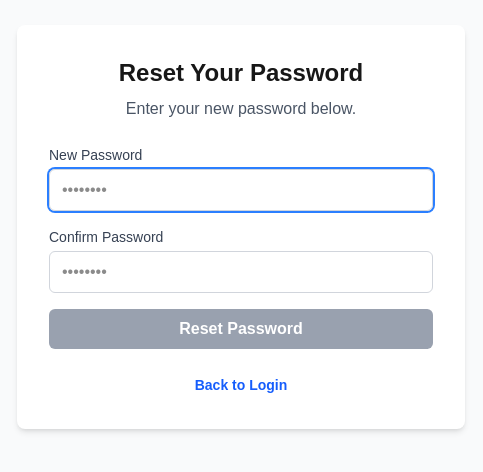
Test: ResetPasswordPage › Password Strength Indicator › should show password strength indicator when typing
The image size is (483, 472).
# Type weak password
Type "weak" into the password field labelled "New Password" at (241, 190), box [49, 169, 433, 211]
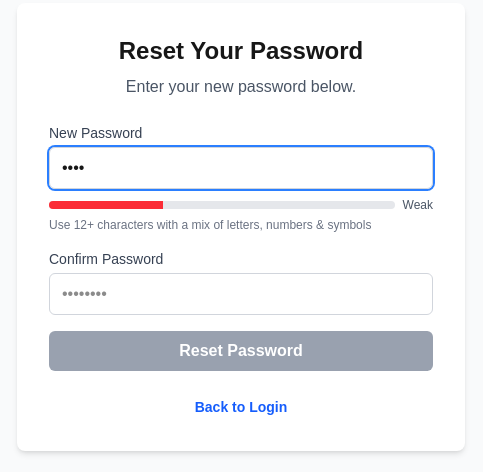
Now the text "Weak" is shown, box [402, 197, 433, 213]
